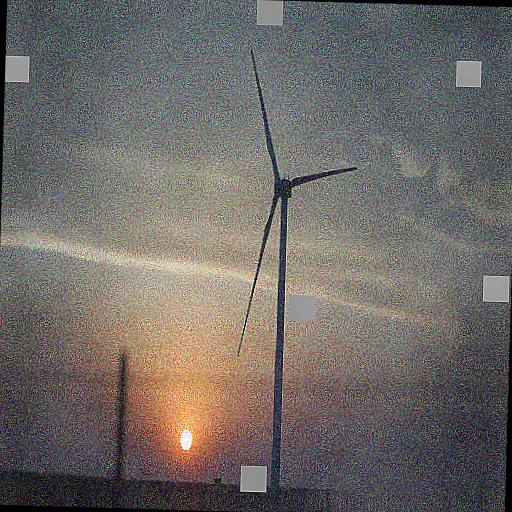wind turbine: (235, 48, 358, 489)
